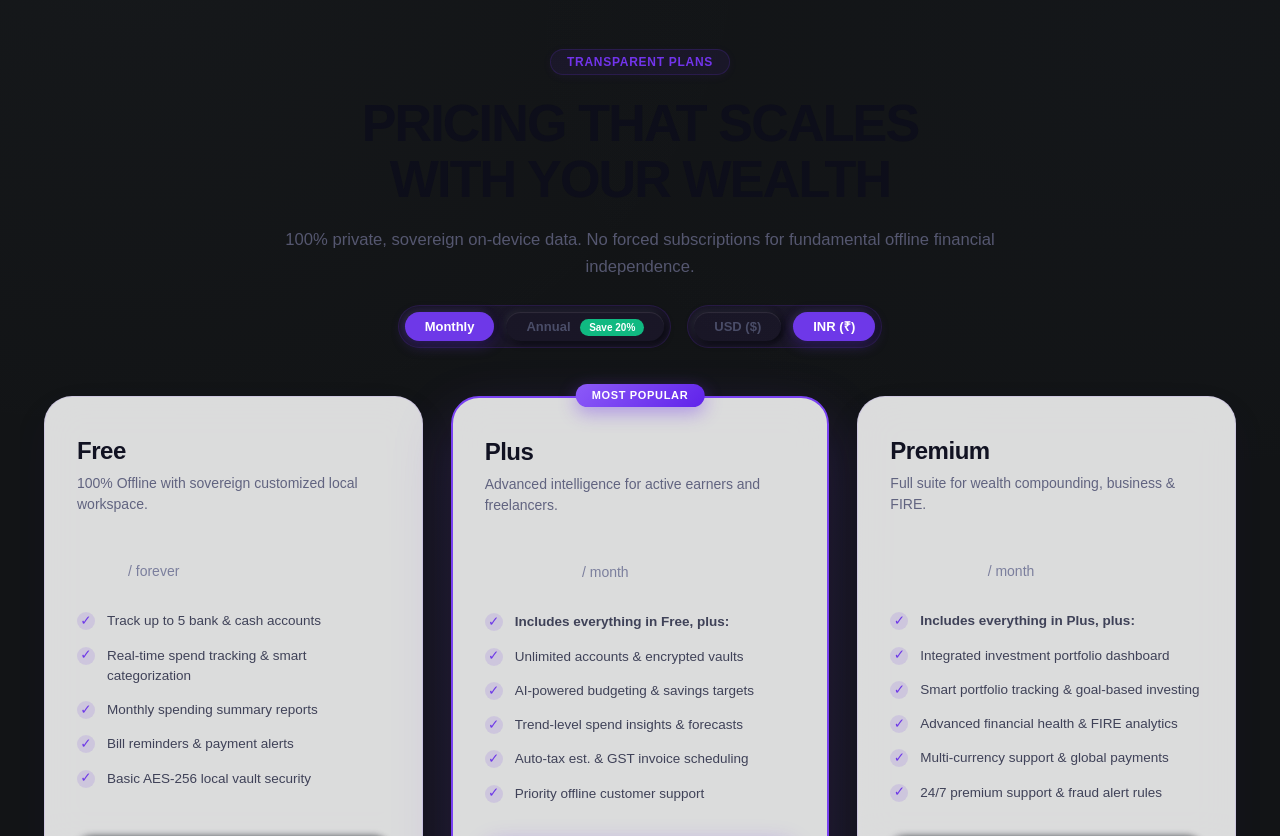
Emergent Landing Page Component › toggles billing frequency and currency in PricingSection
# Toggle to Annual
Click the button "Annual Save 20%".
click(585, 326)  # box top-left (506, 312), bottom-right (664, 341)
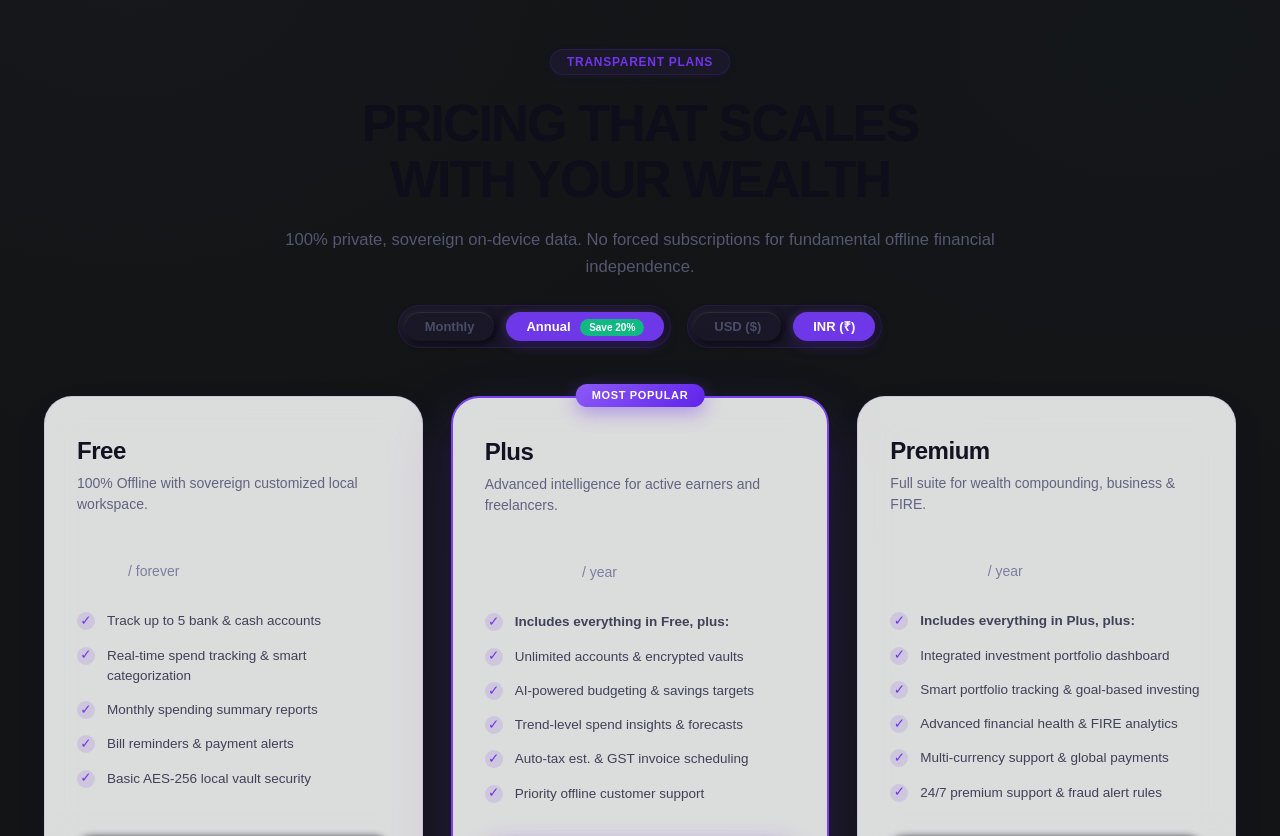
# Toggle to USD
Click the button "USD ($)".
click(738, 326)  # box top-left (694, 312), bottom-right (781, 341)
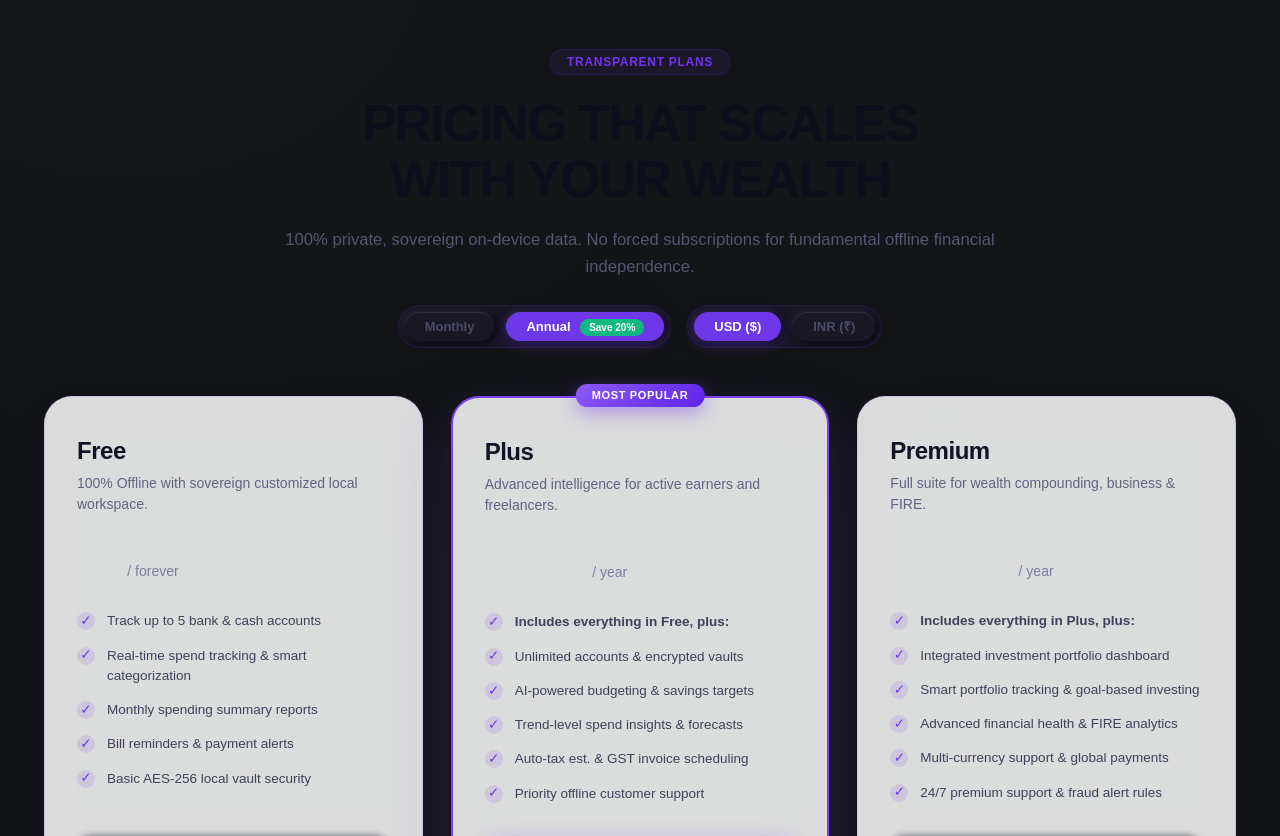
# Toggle back to Monthly
Click the button "Monthly".
click(450, 326)  # box top-left (405, 312), bottom-right (494, 341)
(page scrolled)
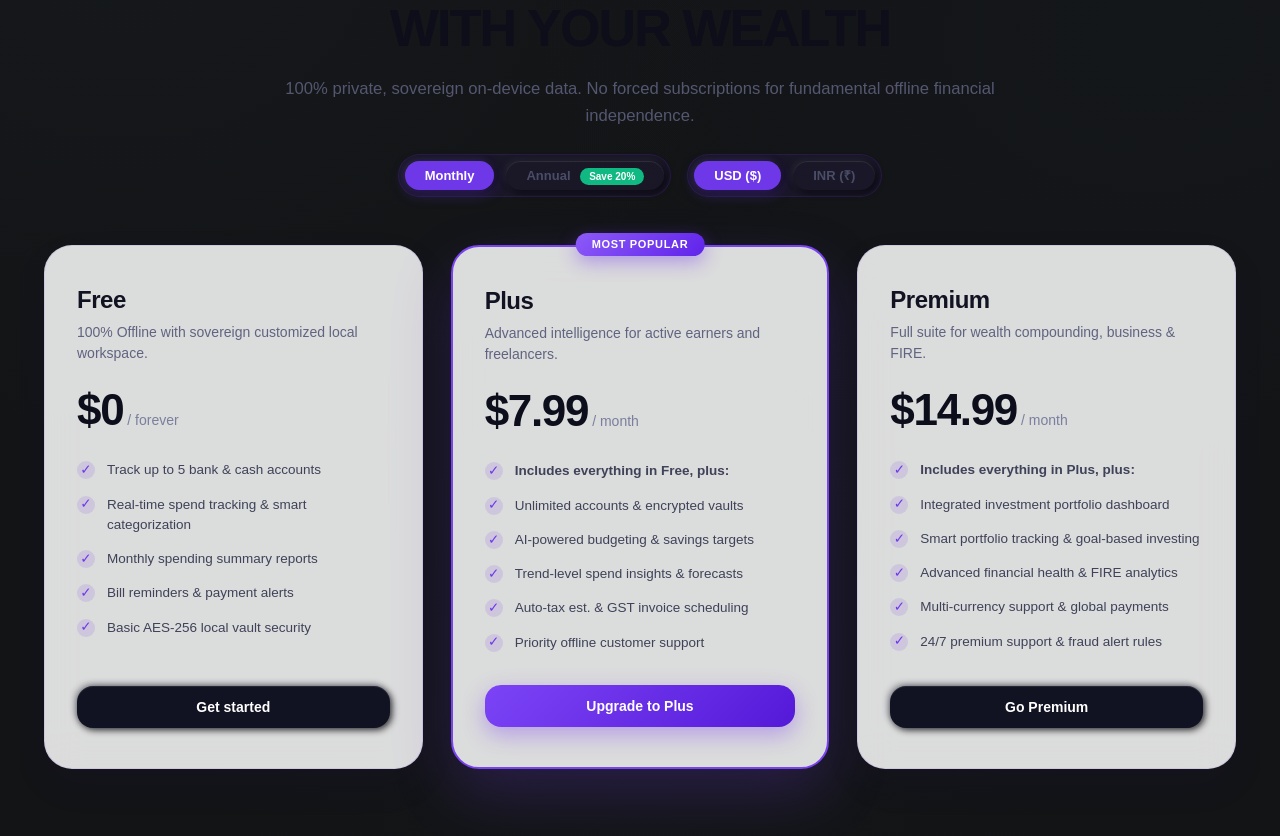
Now the element with test id "pricing-card-plus" shows "$7.99", box top-left (485, 386), bottom-right (588, 435)
